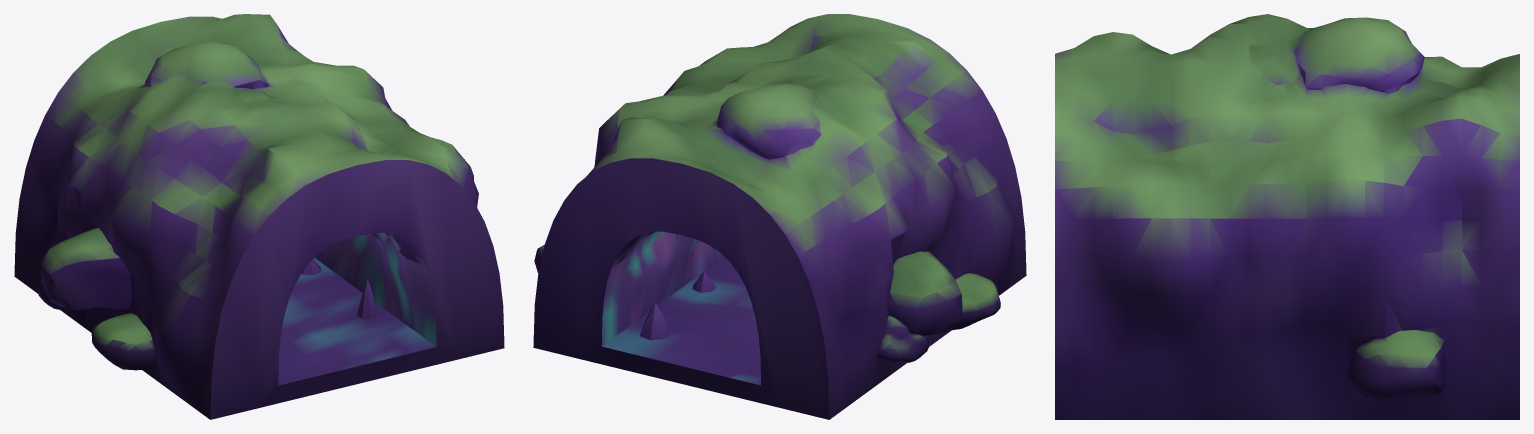
Rendered from hollow_cave_tunnel.glb.
The picture shows the model from 3 angles, left to right: view 1: azimuth 30°, elevation 25°; view 2: azimuth 150°, elevation 25°; view 3: azimuth 270°, elevation 25°; orthographic projection. The views are drawn at different scales.
Parts seen in each view (by area): view 1: hollow_cave_tunnel; view 2: hollow_cave_tunnel; view 3: hollow_cave_tunnel.
Boxes of the visible parts, x1,y1,x2,y2 form: hollow_cave_tunnel: [14, 14, 504, 419]; hollow_cave_tunnel: [533, 14, 1026, 419]; hollow_cave_tunnel: [1055, 14, 1519, 419].
Bounding box in the file's own units: 13.56 × 8.43 × 12.
